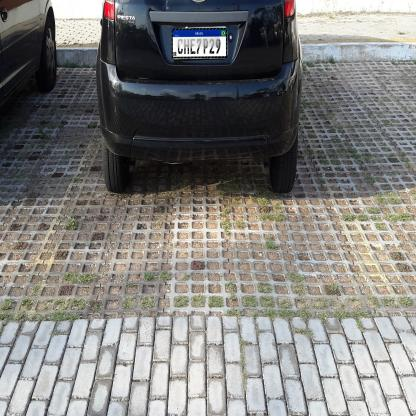PlacaM: (172, 28, 227, 58)
